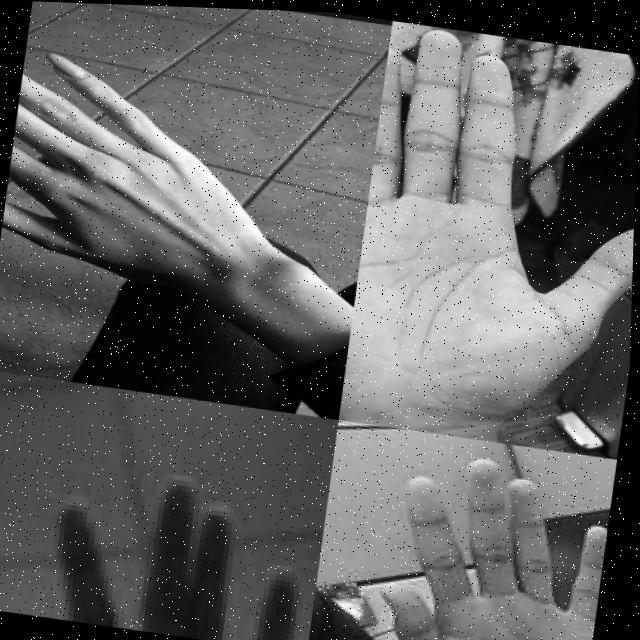no-gloves: (340, 17, 640, 454), (0, 32, 331, 318), (17, 453, 320, 640), (369, 440, 618, 640)
